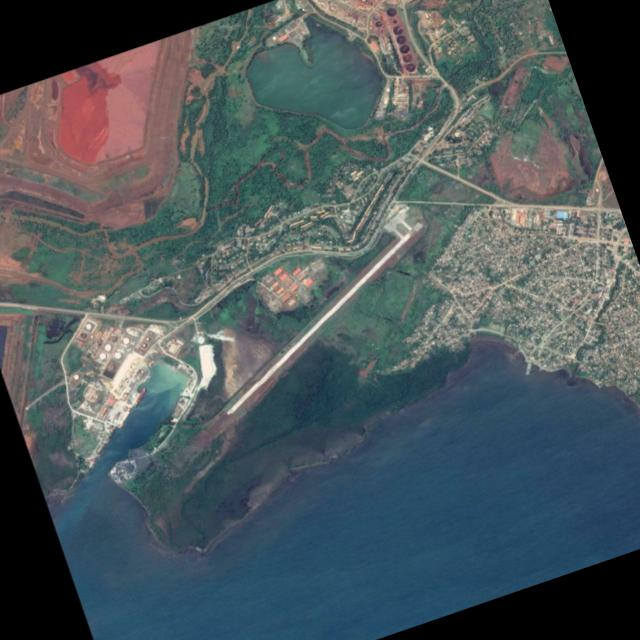storage-tank: (101, 341, 111, 351), (111, 349, 121, 359), (96, 350, 106, 360), (108, 333, 117, 343), (105, 361, 114, 371), (70, 371, 79, 380), (82, 321, 91, 329), (120, 336, 129, 344), (78, 331, 86, 339)
